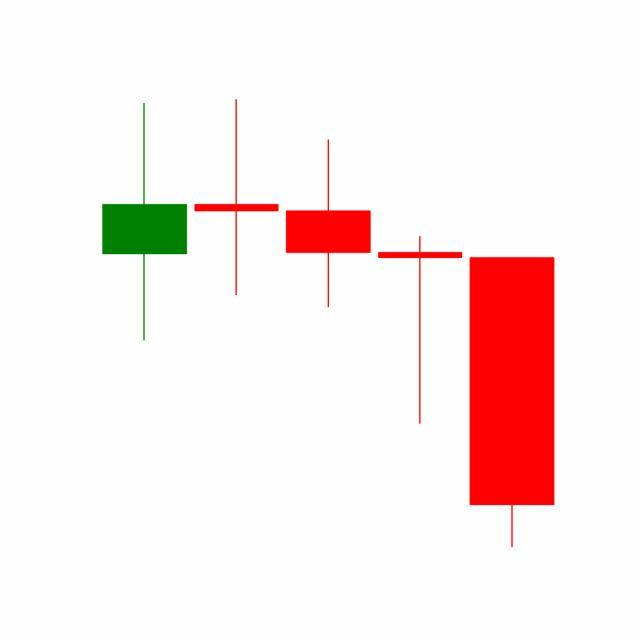Dragonfly Doji: (374, 234, 468, 427)
